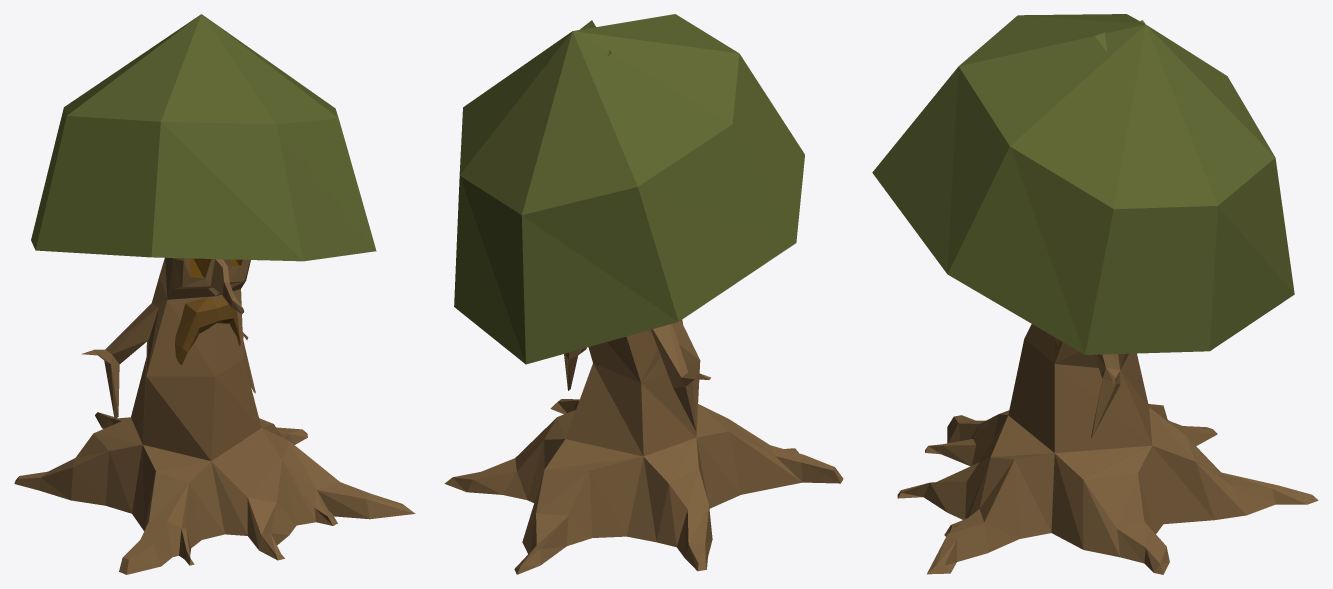
The model's file is spirit-tree.gltf.
3 renders of one model, left to right at view 1: azimuth 30°, elevation 25°; view 2: azimuth 150°, elevation 25°; view 3: azimuth 270°, elevation 25°, orthographic. The views are drawn at different scales.
Bounding box in the file's own units: 255 × 338 × 279.
1 material, 1 textured.
